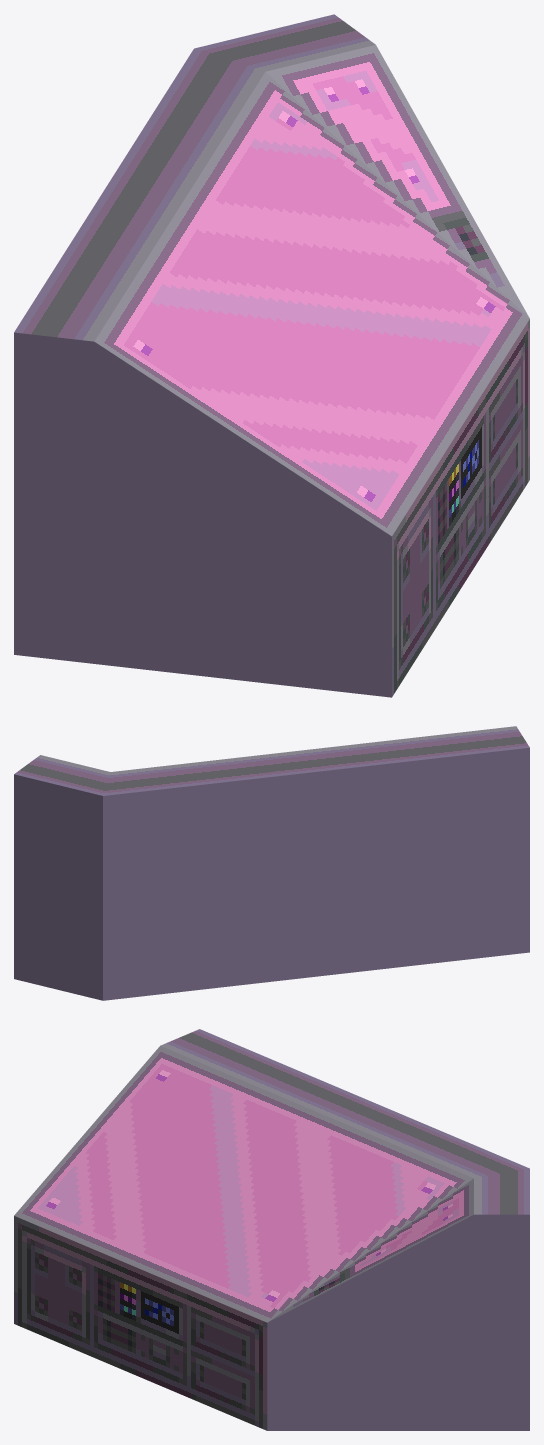
File: console_corner_flipped.glb
3 renders of one model, top to bottom at view 1: azimuth 30°, elevation 25°; view 2: azimuth 150°, elevation 25°; view 3: azimuth 270°, elevation 25°, orthographic. The views are drawn at different scales.
Visible parts, largest first — view 1: cube; view 2: cube; view 3: cube.
Part boxes in pixels (box(x1,y1,x2,y2)): cube: box(14, 14, 529, 697); cube: box(14, 726, 529, 1000); cube: box(14, 1029, 529, 1430).
Bounding box in the file's own units: 4.6 × 2.5 × 5.4.
Materials: 1 (1 with a texture image).
